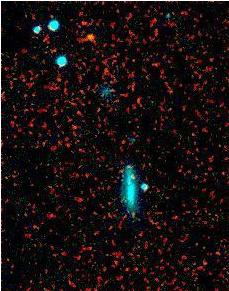star: (75, 21, 105, 51)
